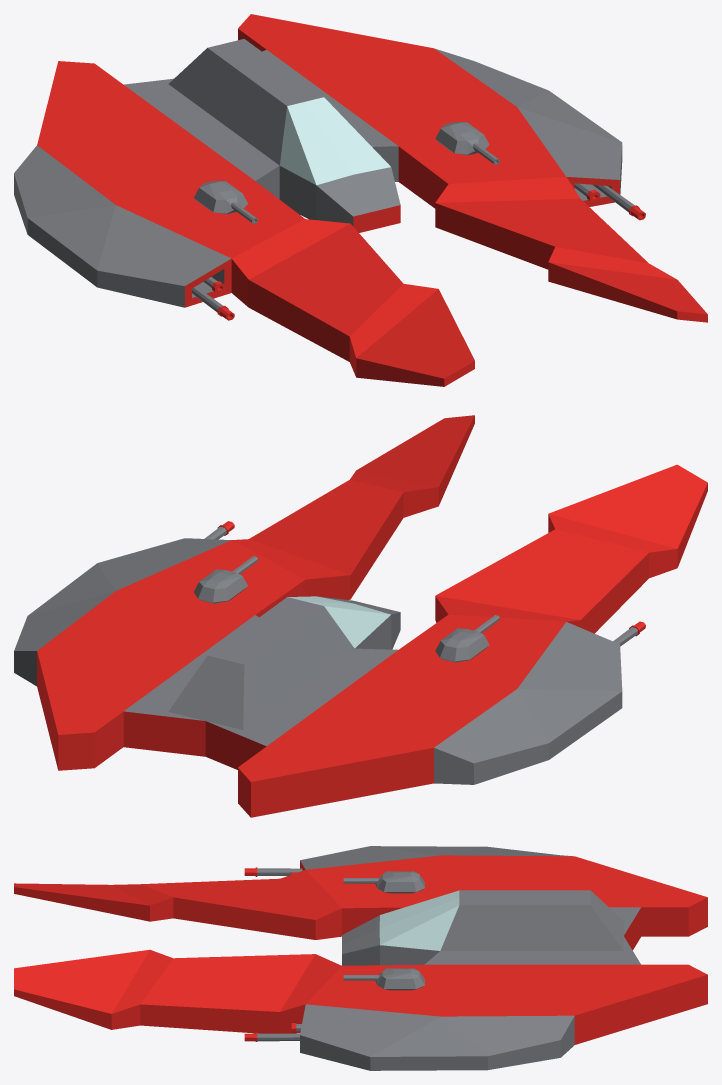
The model's file is drone_6_1.gltf.
3 views of the same model, one above another, from view 1: azimuth 30°, elevation 25°; view 2: azimuth 150°, elevation 25°; view 3: azimuth 270°, elevation 25° (orthographic). The views are drawn at different scales.
Visible parts, largest first — view 1: 6.001; view 2: 6.001; view 3: 6.001.
Part boxes in pixels (x1,y1,x2,y2): 6.001: (14, 14, 707, 386); 6.001: (14, 415, 707, 817); 6.001: (14, 846, 707, 1070).
Bounding box in the file's own units: 5.82 × 0.9081 × 8.09.
1 material, 1 textured.
